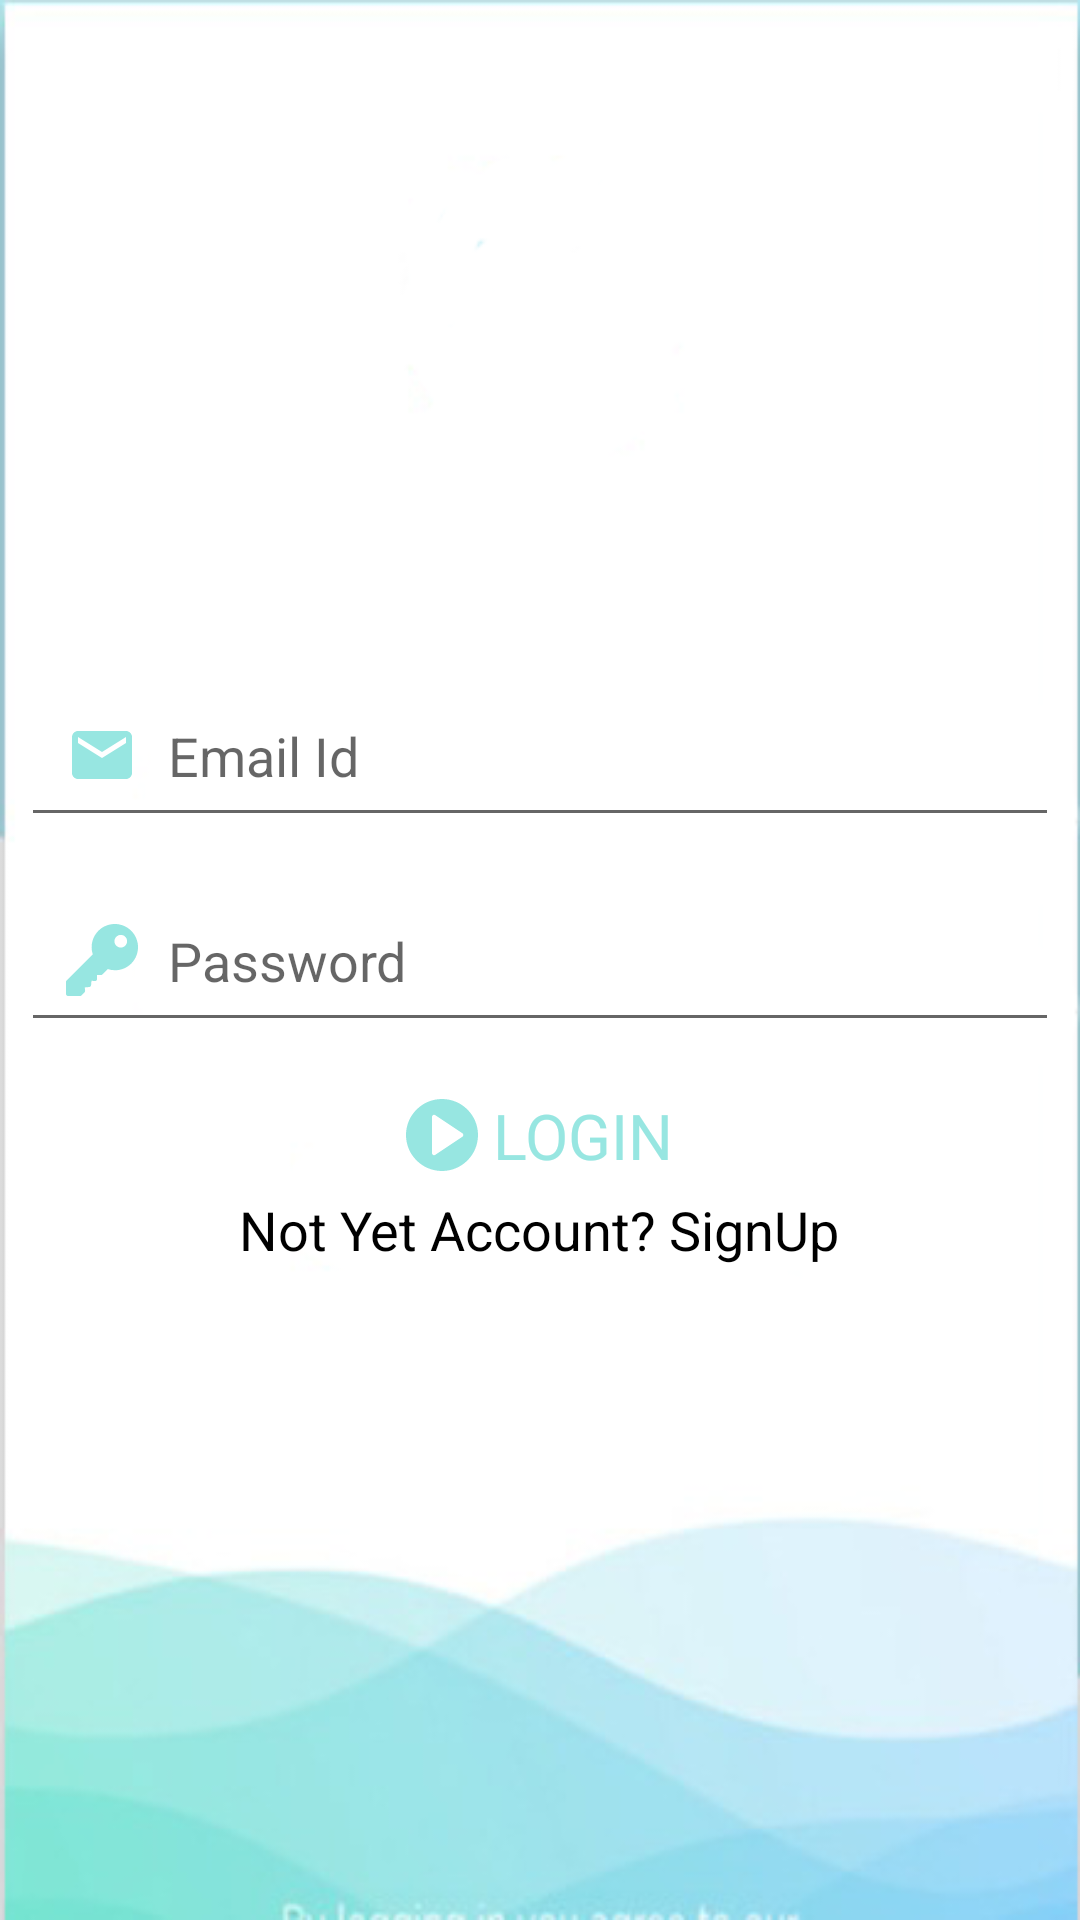

Named icons in this screenshot (1080px x 1920px) and their bounding boxes, (x1, y1, x2, y2):
play: (406, 1099, 478, 1171)
